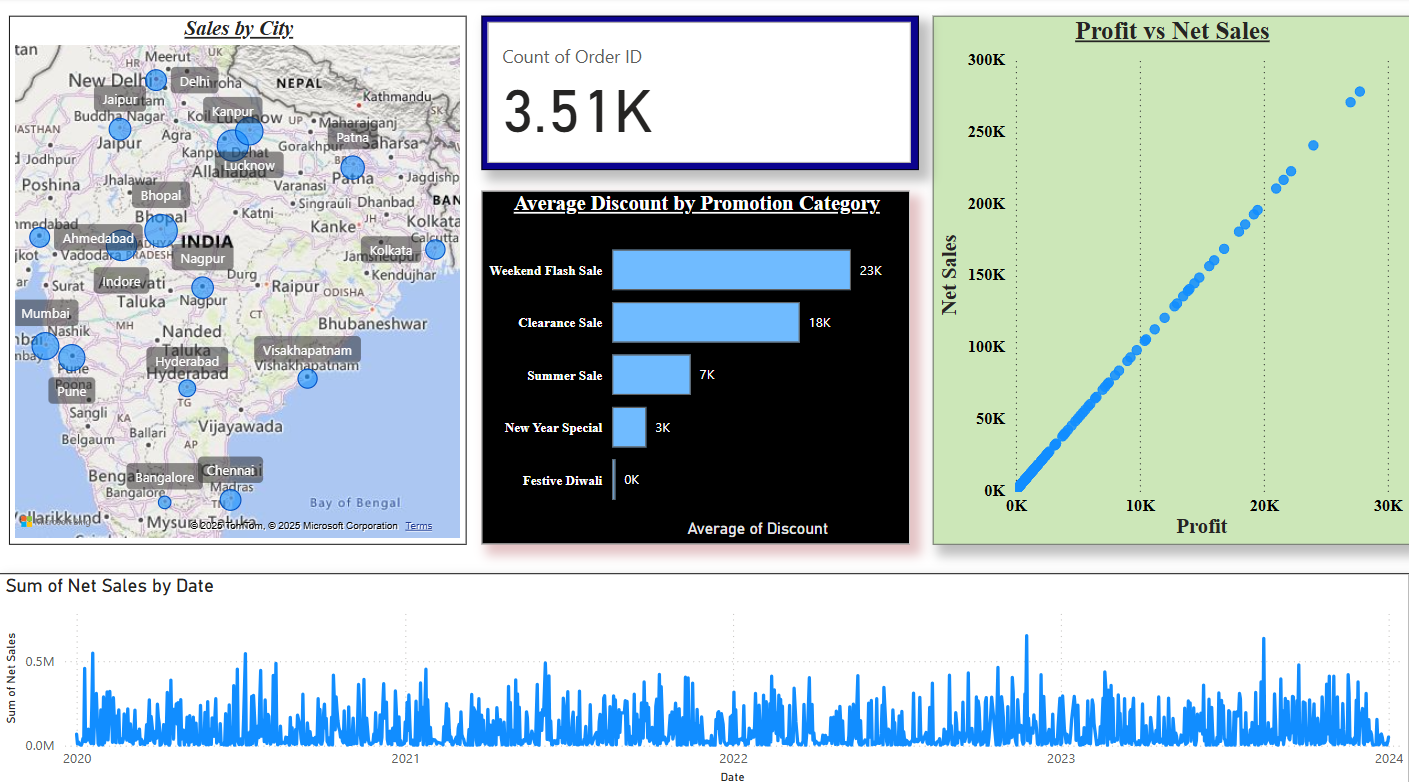

What the dashboard file says about the page in this screenshot:
{"tool":"powerbi","page":{"name":"overview","canvas":[1280,720],"ordinal":2},"visuals":[{"type":"lineChart","fields":{"Y":["Sum(Fact Table.Net Sales  )"],"Category":["Fact Table.Date (dd/mm/yyyy).Variation.Date Hierarchy.Year"]},"box":[0,522.8,1280.3,197.6],"z":0},{"type":"scatterChart","title":"Profit vs Net Sales  ","fields":{"X":["Fact Table.Profit"],"Y":["Fact Table.Net Sales  "]},"box":[847.3,17,433.3,479.8],"z":1000},{"type":"barChart","title":"Average Discount by Promotion Category","fields":{"Y":["Avg(Fact Table.Discount)"],"Category":["Dim Promotion.Promotion Name"]},"box":[437.8,175.8,389,321],"z":2000},{"type":"map","title":"Sales  by City","fields":{"Category":["Dim Customers.City"],"Size":["Sum(Fact Table.Net Sales  )"]},"box":[8.9,16.7,415.6,480],"z":3000},{"type":"cardVisual","fields":{"Data":["Count(Fact Table.Order ID)"]},"box":[437.8,16.7,396.7,140],"z":4000}]}

Visuals, with their boxes in screenshot pixels (x1, y1, x2, y2), scaled from the page's 1280x720 canvas onto the 1409x782 screenshot:
lineChart - Sum(Fact Table.Net Sales  ) x Fact Table.Date (dd/mm/yyyy).Variation.Date Hierarchy.Year: [0, 568, 1408, 781]
"Profit vs Net Sales  " scatterChart: [933, 18, 1408, 540]
"Average Discount by Promotion Category" barChart: [482, 191, 910, 540]
"Sales  by City" map: [10, 18, 467, 539]
cardVisual - Count(Fact Table.Order ID): [482, 18, 919, 170]
